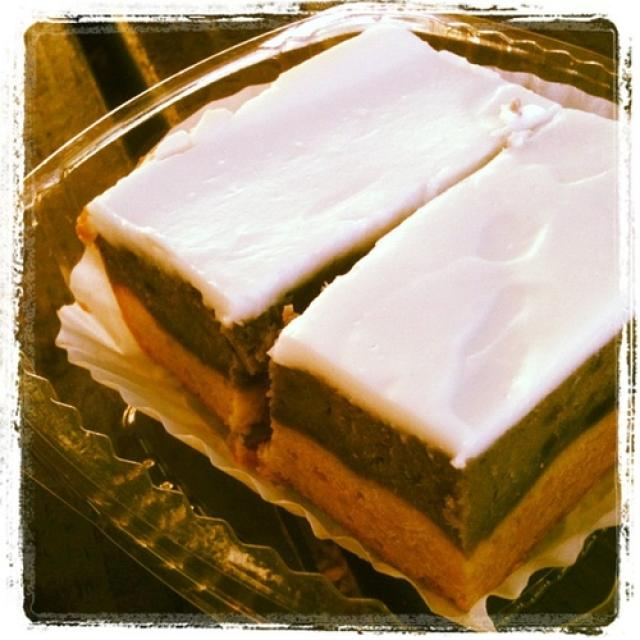蛋糕甜品: (61, 26, 612, 592)
